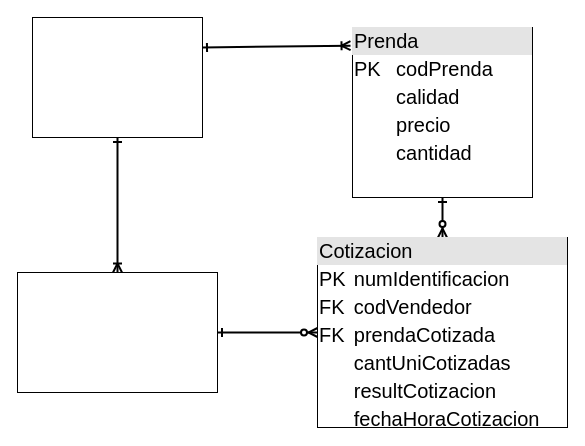
This 585x446 diagram has some shape labels left out. The centre of each missing label's shape, as x and y in pixels:
Tienda PK codTienda nombre direcion: the point at 117,77
Vendedor PK codVendedor nombre apellido: the point at 117,332
